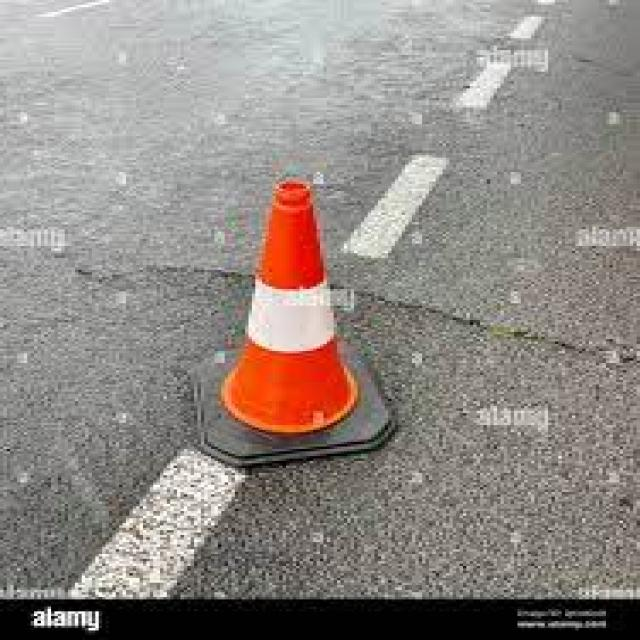cone: (190, 172, 395, 478)
